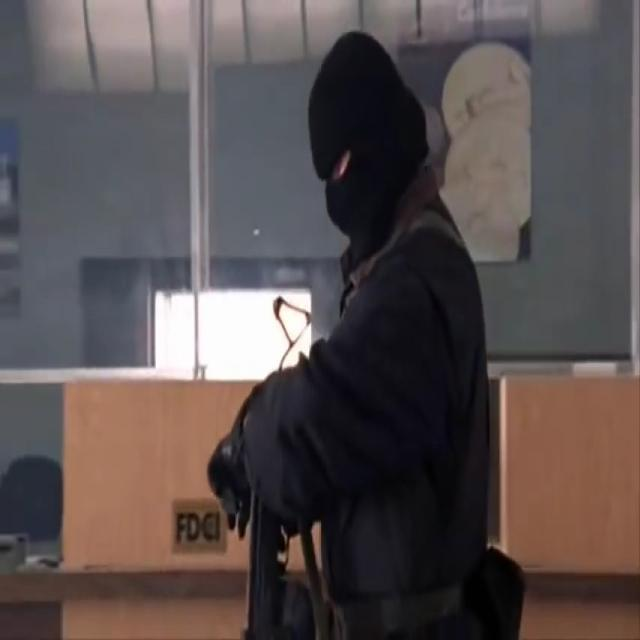pistol: (212, 492, 317, 640)
